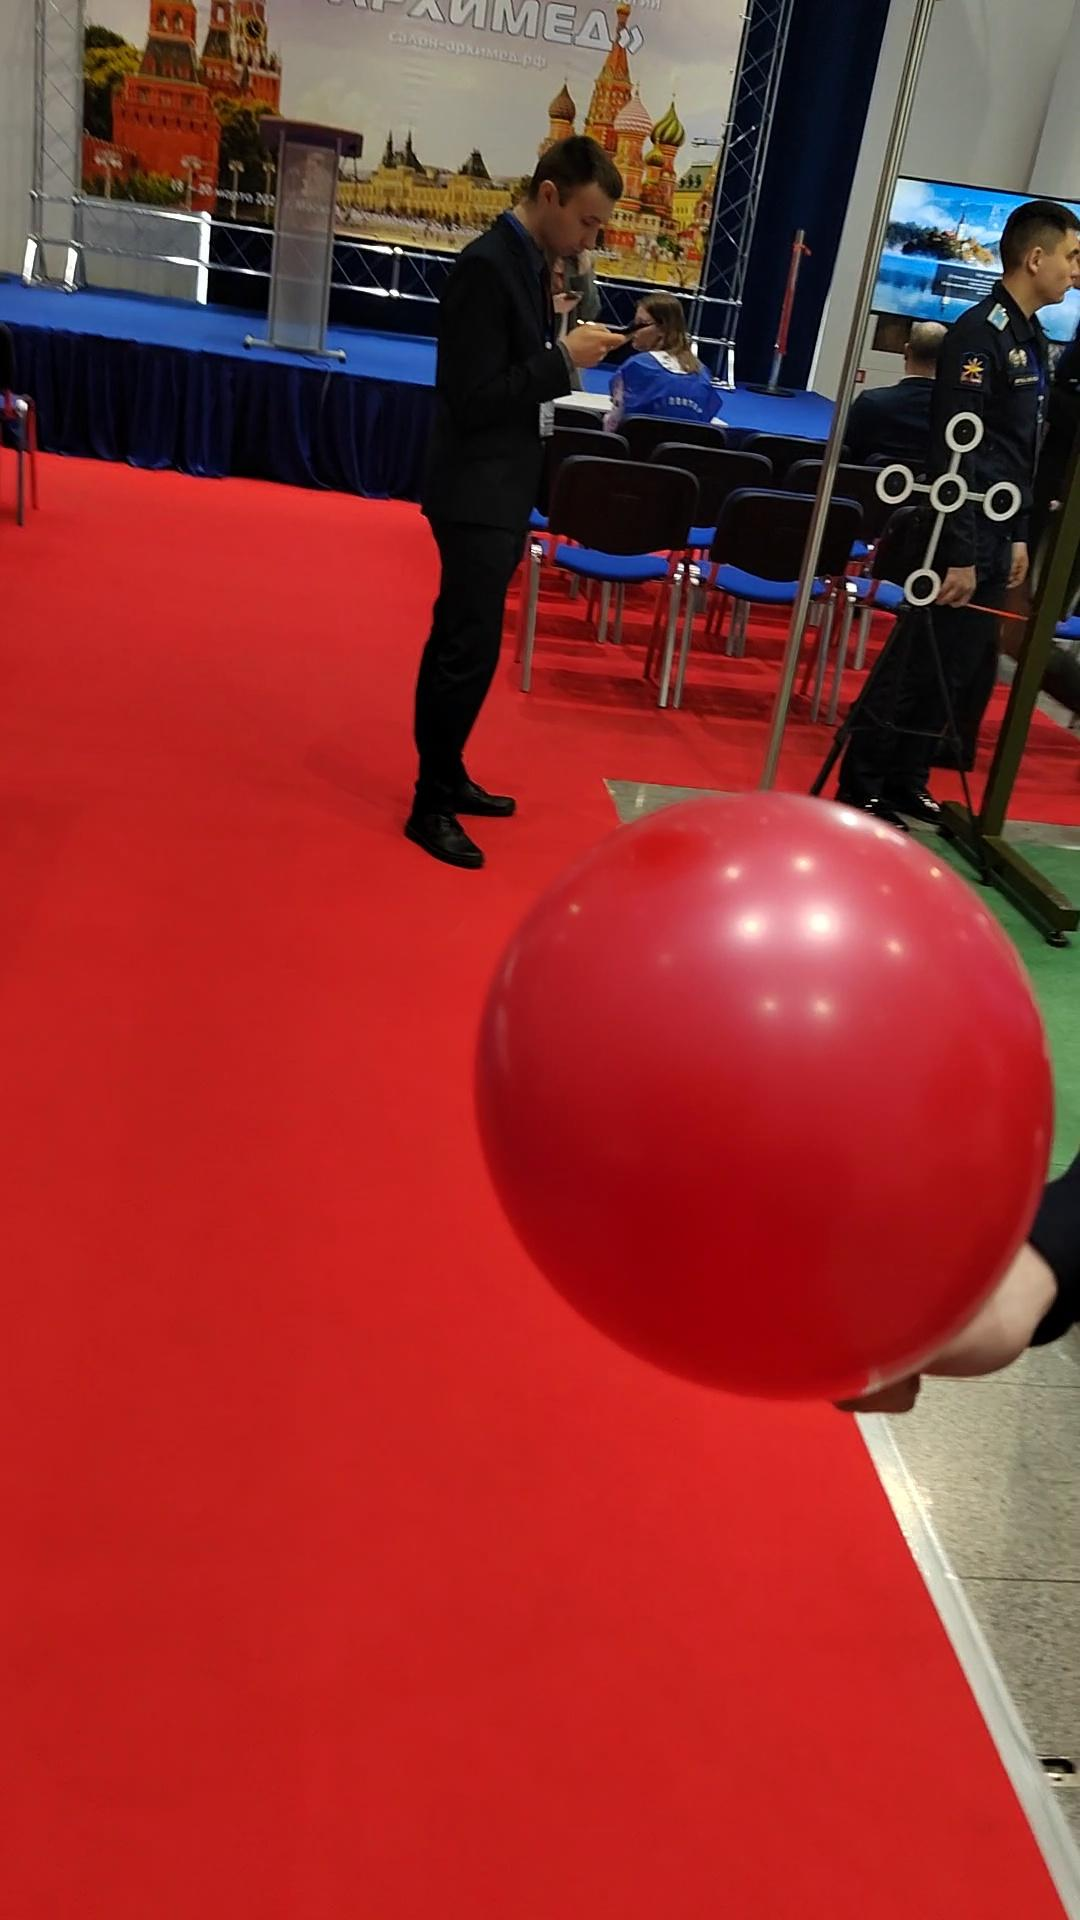red: (456, 769, 1067, 1418)
